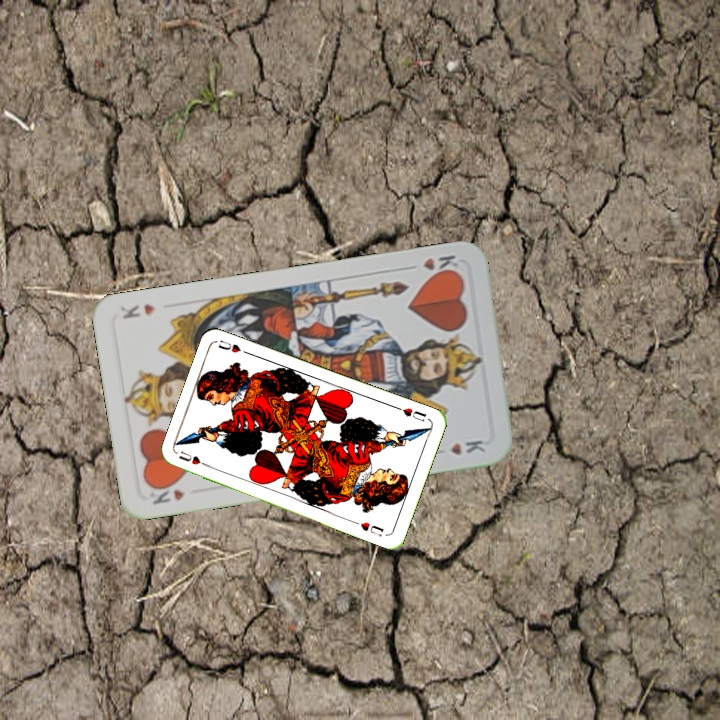HK: (418, 250, 463, 279), (146, 479, 188, 508)
HU: (174, 447, 213, 470), (392, 403, 429, 424)
